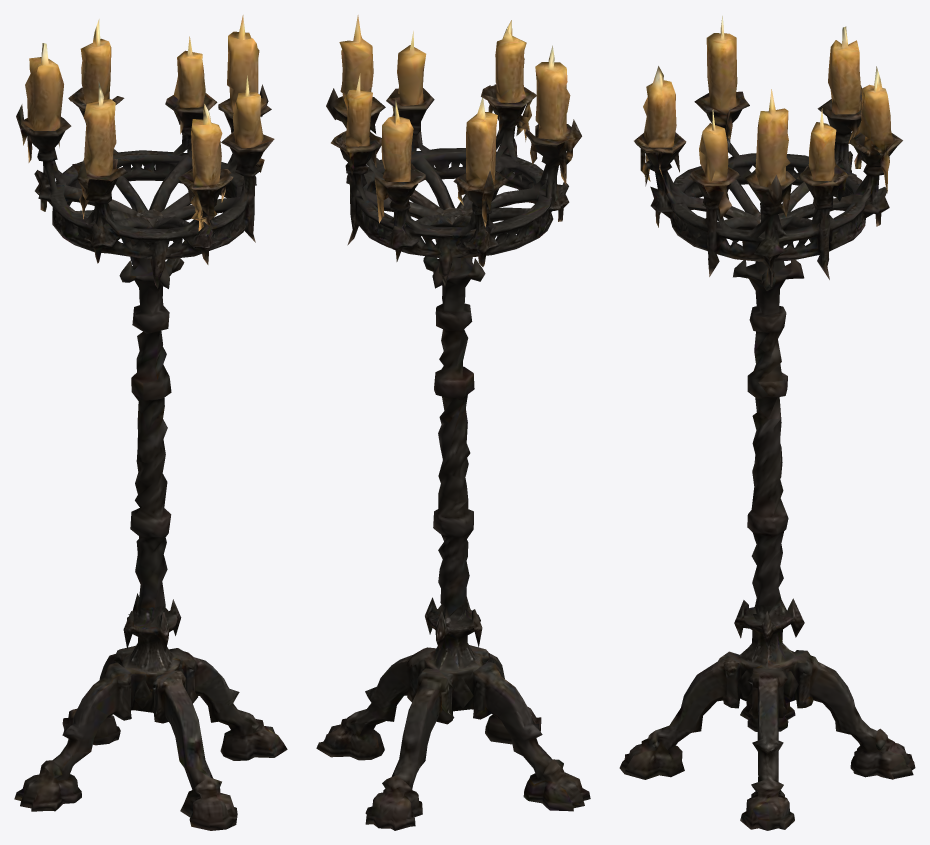
Rendered from candelabra.glb.
3 views of the same model, side by side, from view 1: azimuth 30°, elevation 25°; view 2: azimuth 150°, elevation 25°; view 3: azimuth 270°, elevation 25° (orthographic).
Visible parts, largest first — view 1: candelabra; view 2: candelabra; view 3: candelabra.
Part boxes in pixels (x1,y1,x2,y2): candelabra: (14,15,287,830); candelabra: (316,15,590,830); candelabra: (619,15,915,830).
Bounding box in the file's own units: 0.7803 × 2.1 × 0.7765.
Materials: 1 (1 with a texture image).
